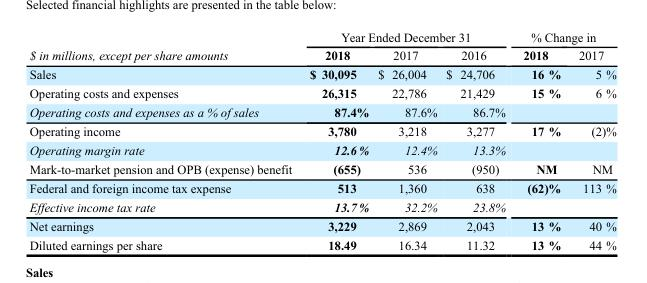table: (28, 29, 615, 251)
table column: (28, 29, 300, 251), (440, 29, 513, 251), (300, 29, 372, 251), (372, 29, 440, 251), (513, 29, 569, 251), (569, 29, 615, 251)
table column header: (28, 29, 615, 64)
table row: (28, 45, 615, 64), (28, 64, 615, 83), (28, 83, 615, 102), (28, 102, 615, 121), (28, 121, 615, 140), (28, 140, 615, 159), (28, 159, 615, 178), (28, 178, 615, 197), (28, 197, 615, 216), (28, 216, 615, 235), (28, 29, 615, 45), (28, 235, 615, 251)
table spanning cell: (28, 29, 300, 64), (300, 29, 513, 45), (513, 29, 615, 45)
